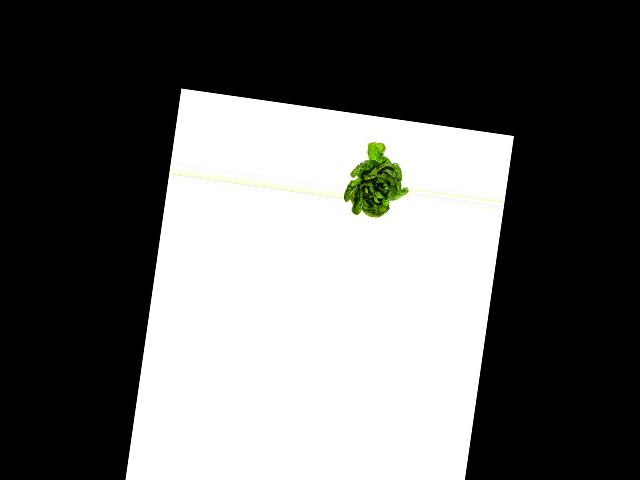lettuce: (343, 136, 414, 222)
